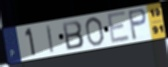1: (24, 27, 37, 57)
B: (61, 20, 85, 52)
E: (106, 10, 131, 46)
I: (45, 23, 55, 54)
O: (84, 16, 106, 48)
P: (127, 8, 148, 42)
